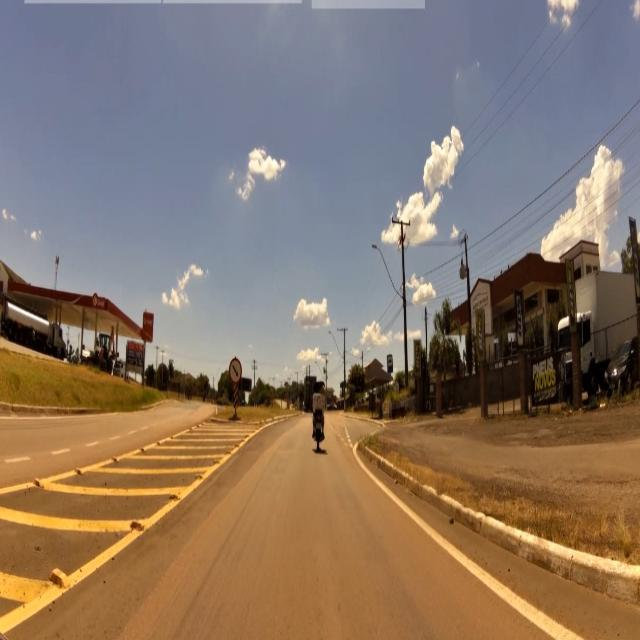R-24b: (229, 356, 242, 386)
